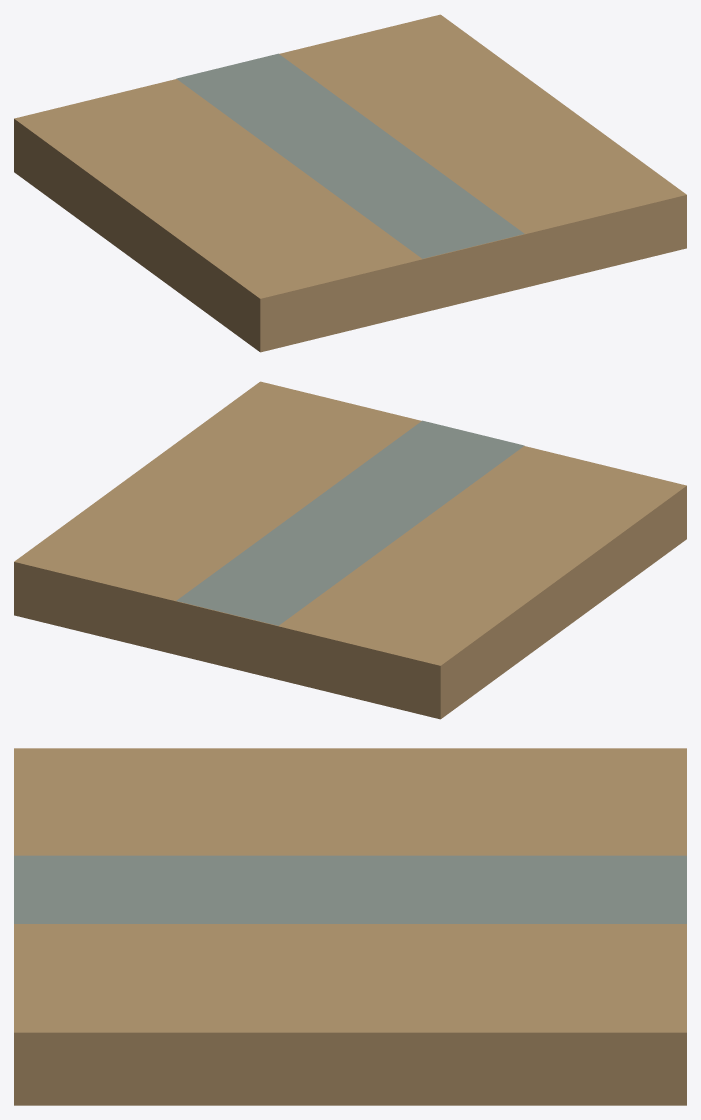
File: road_straight.glb
3 renders of one model, top to bottom at view 1: azimuth 30°, elevation 25°; view 2: azimuth 150°, elevation 25°; view 3: azimuth 270°, elevation 25°, orthographic. The views are drawn at different scales.
Parts seen in each view (by area): view 1: road_straight; view 2: road_straight; view 3: road_straight.
Boxes of the visible parts, <box> form: road_straight: <box>14,14,686,352</box>; road_straight: <box>14,381,686,719</box>; road_straight: <box>14,748,686,1105</box>.
Bounding box in the file's own units: 1 × 0.121 × 1.
Materials: 1 (1 with a texture image).
